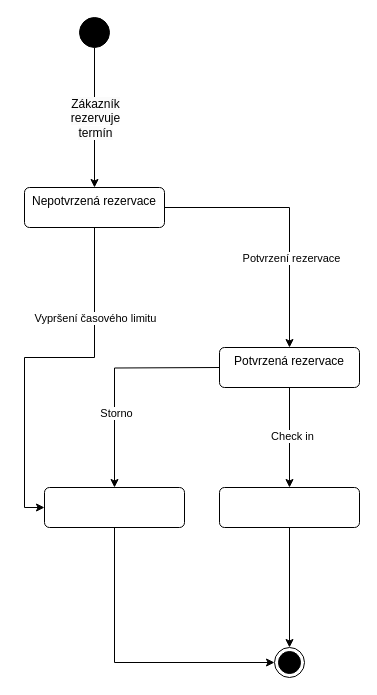
Some shapes in this 377 by 695 pixel diagram are drawn without their labels. The shapes that lost their labels are listed below. From the top down, each one's box as (x1, y1, x2, y2) in pixels, then its label:
(44, 486, 184, 528): Rezvace zrušená
(218, 486, 360, 528): Vyzvednutá rezervace
